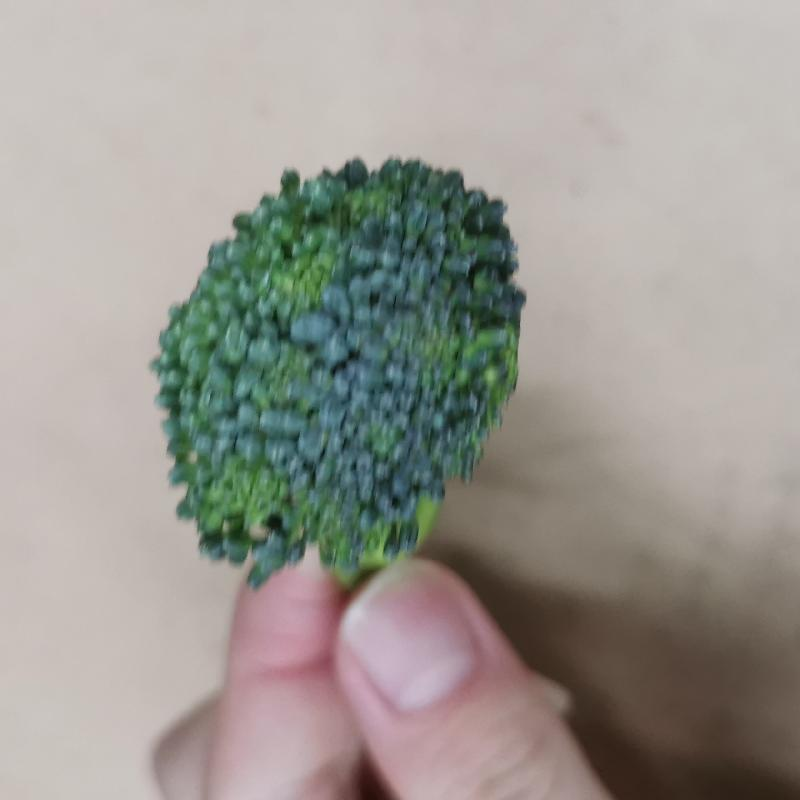broccoli: (126, 154, 526, 610)
